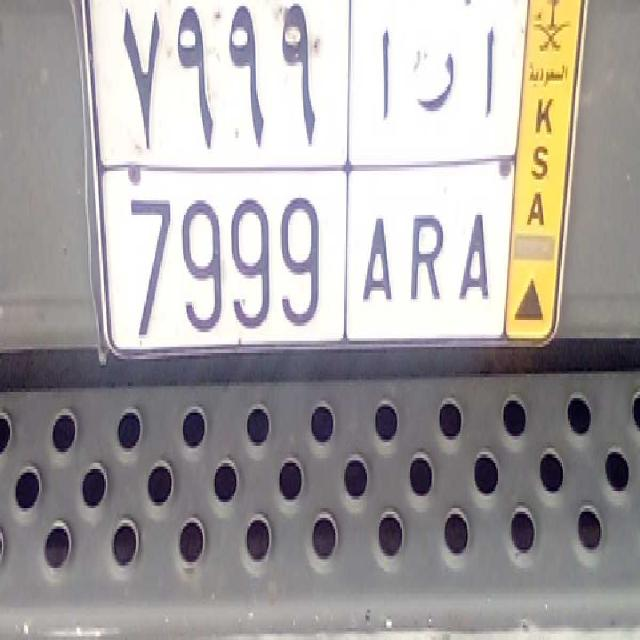license_plate: (98, 159, 511, 348)
